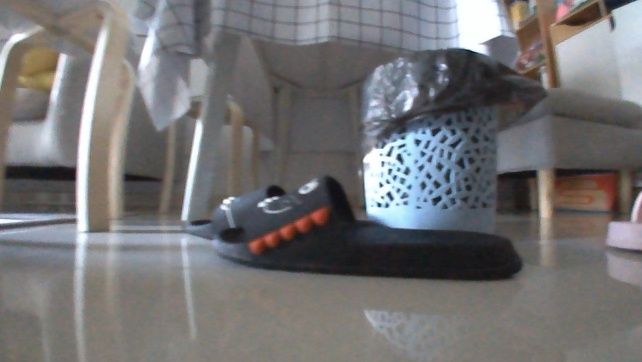dining_table1: (0, 0, 641, 245)
slipper: (208, 173, 524, 283), (181, 183, 390, 242)
sofa1: (0, 34, 178, 192)
